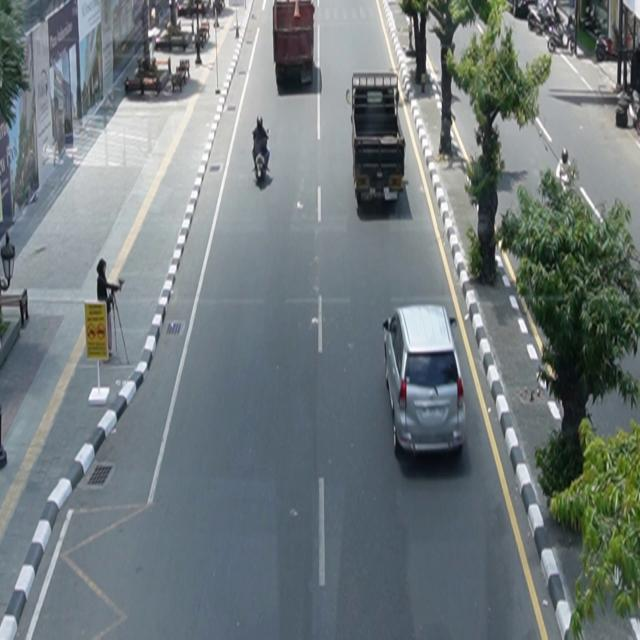car: (383, 304, 468, 459)
truck: (350, 71, 407, 208), (273, 1, 316, 87)
